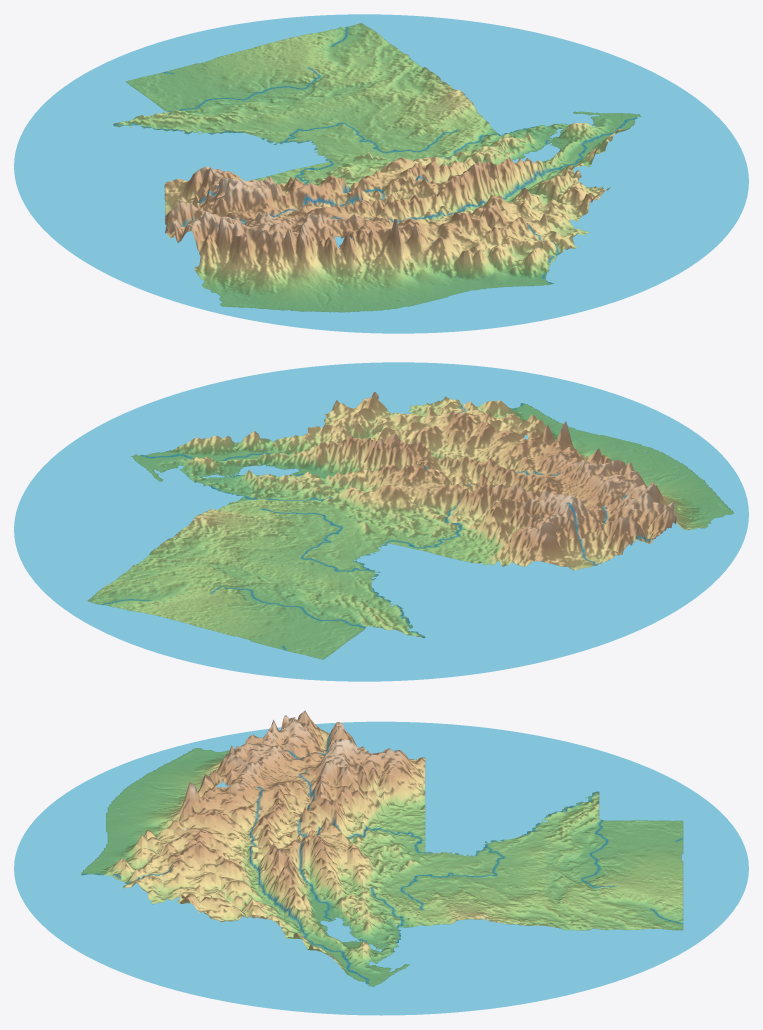
Rendered from GTM-terrain.glb.
3 renders of one model, top to bottom at view 1: azimuth 30°, elevation 25°; view 2: azimuth 150°, elevation 25°; view 3: azimuth 270°, elevation 25°, orthographic. The views are drawn at different scales.
Visible parts, largest first — view 1: Relevo com hidrografia; view 2: Relevo com hidrografia; view 3: Relevo com hidrografia.
Boxes of the visible parts, left/top/right/bottom form: Relevo com hidrografia: left=14, top=14, right=748, bottom=333; Relevo com hidrografia: left=14, top=362, right=748, bottom=681; Relevo com hidrografia: left=14, top=710, right=748, bottom=1015.
Size of the model in its own units: 1.86 by 0.1461 by 1.96.
2 materials, 1 textured.
